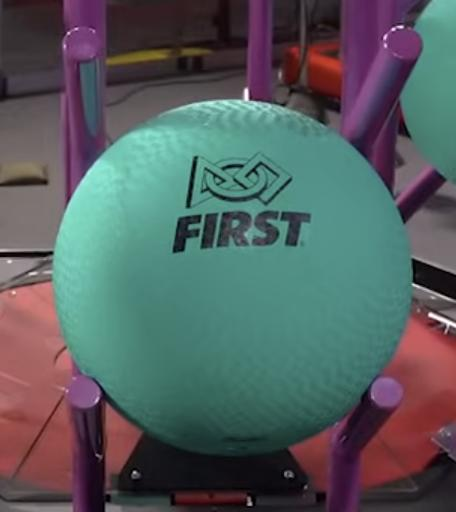algae: (53, 102, 413, 457), (401, 0, 456, 186)
